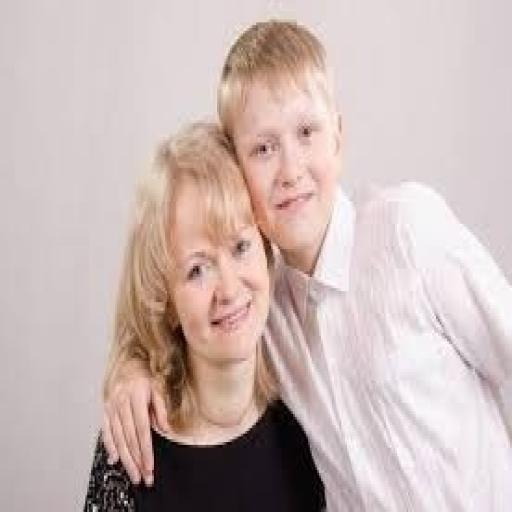hugging: (91, 17, 510, 509), (82, 120, 328, 510)
